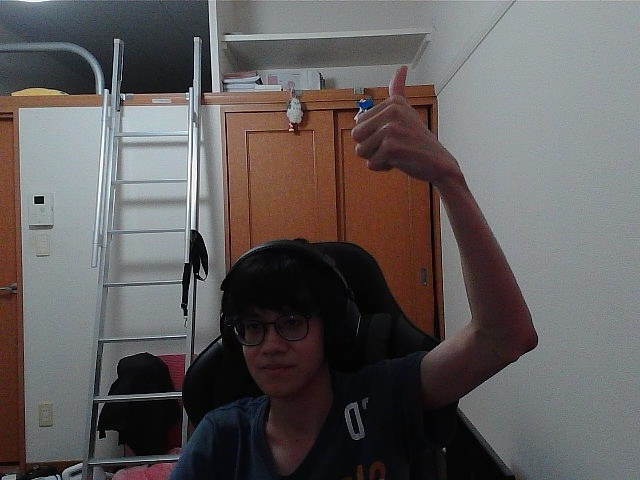thumb_up: (356, 75, 439, 168)
